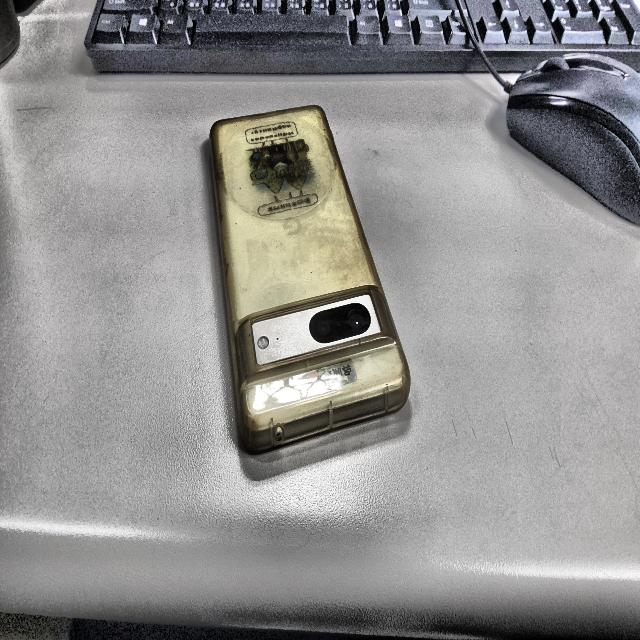Keyboard: (84, 0, 485, 75), (461, 0, 640, 73)
MOUSE: (506, 53, 640, 225)
PHONE: (210, 106, 410, 452)
